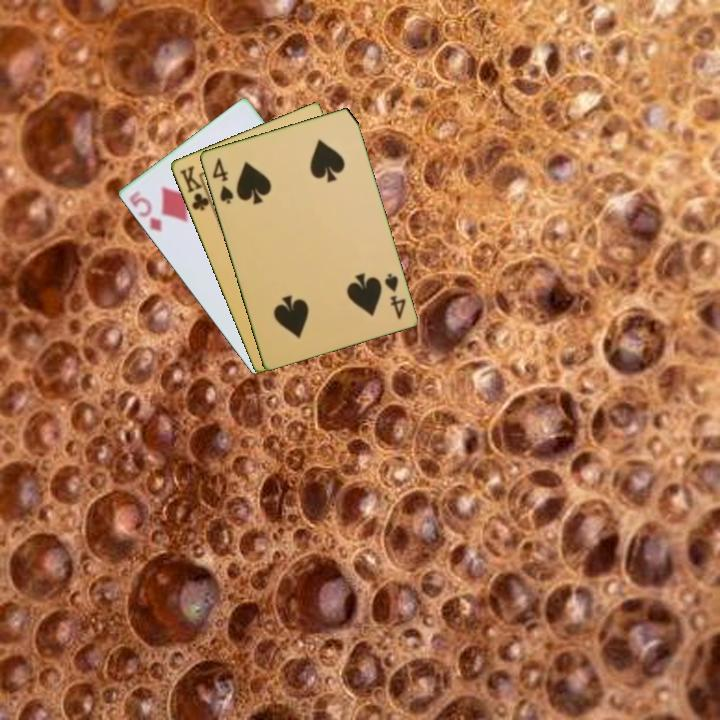4s: (380, 269, 409, 322), (208, 154, 236, 207)
5d: (125, 187, 165, 235)
Kc: (175, 162, 215, 214)
